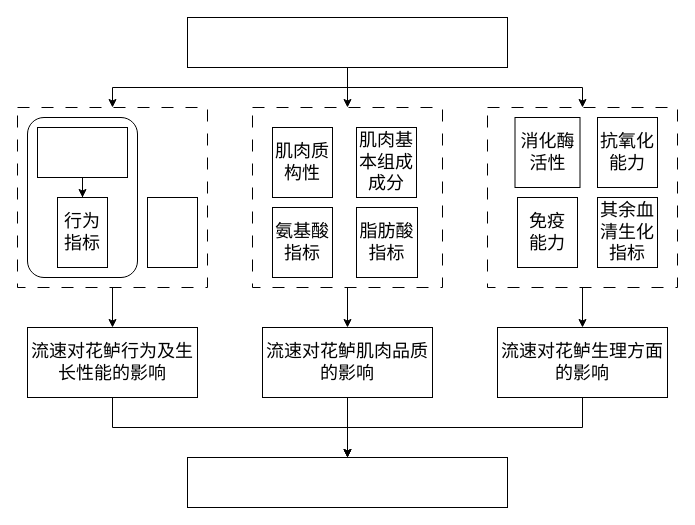
The diagram is 695 pixels wide and 525 high, and some of its shapes have lost their labels. The box of each missing label's shape, as (x1, y1, x2, y2) in pixels:
流速对花鲈的影响研究: (186, 16, 508, 68)
生长指标: (146, 196, 198, 268)
目标检测追踪技术: (36, 126, 128, 178)
确定适宜生长流速的范围: (186, 456, 508, 508)
